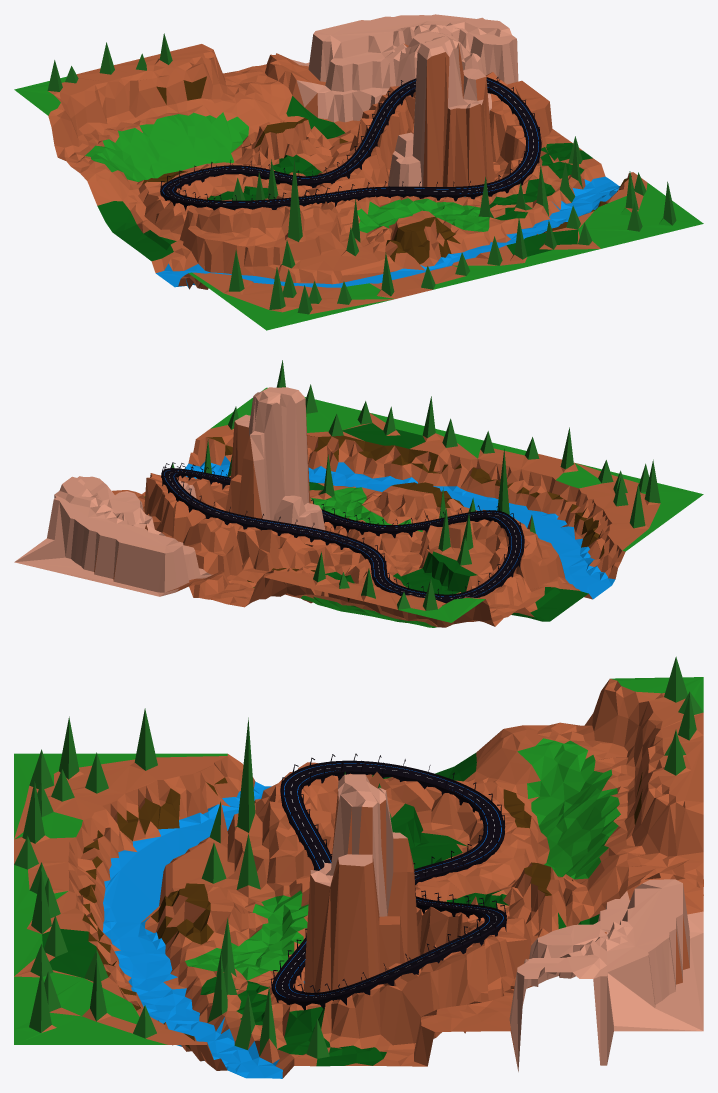
The model's file is Roads.fbx.
3 views of the same model, one above another, from view 1: azimuth 30°, elevation 25°; view 2: azimuth 150°, elevation 25°; view 3: azimuth 270°, elevation 25° (orthographic). The views are drawn at different scales.
Visible parts, largest first — view 1: Grid, RoadBorder, Road; view 2: Grid, RoadBorder, Road; view 3: Grid, RoadBorder, Road.
Boxes of the visible parts, bbox=[...] form: Grid: bbox=[14, 14, 703, 330]; RoadBorder: bbox=[160, 77, 541, 210]; Road: bbox=[163, 80, 538, 204]; Grid: bbox=[14, 360, 703, 627]; RoadBorder: bbox=[161, 462, 524, 603]; Road: bbox=[164, 470, 521, 601]; Grid: bbox=[14, 656, 703, 1078]; RoadBorder: bbox=[270, 753, 506, 1010]; Road: bbox=[276, 763, 502, 999].
Bounding box in the file's own units: 20016 × 6519 × 20010.
